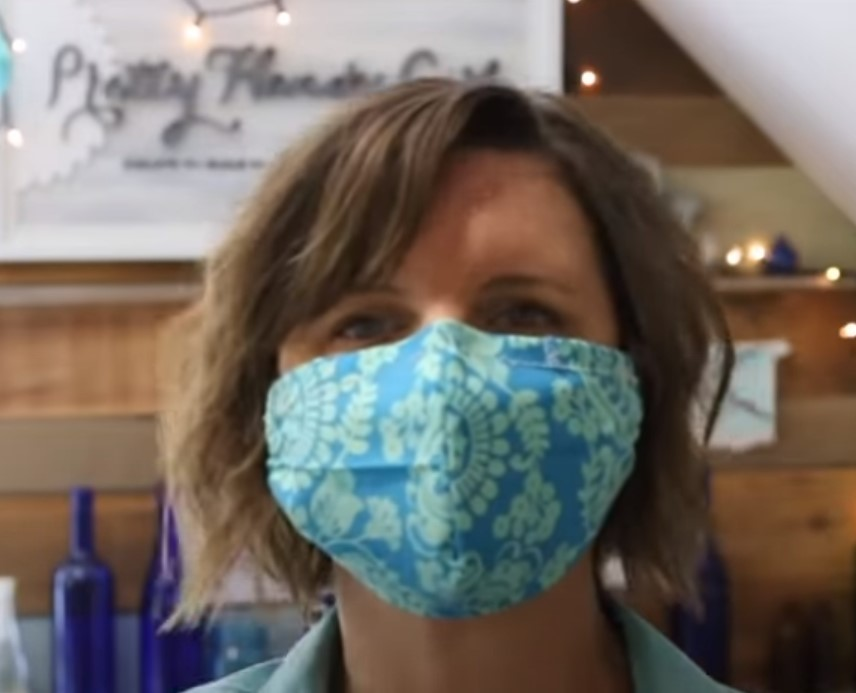face_with_mask: (252, 94, 649, 619)
